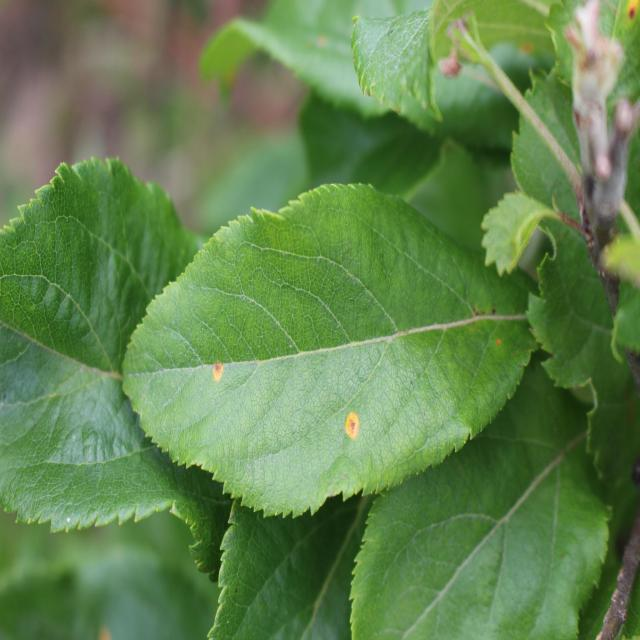Rust: (342, 405, 361, 443), (208, 357, 227, 390), (623, 2, 640, 28), (95, 622, 116, 640), (493, 328, 505, 352)
